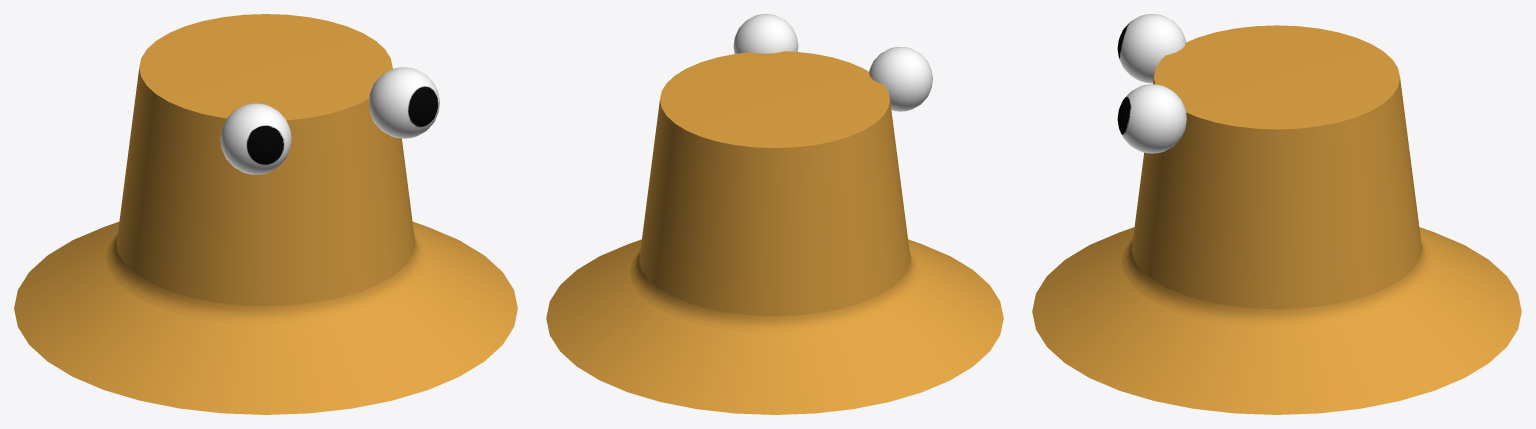
File: pyontahat.fbx
The picture shows the model from 3 angles, left to right: view 1: azimuth 30°, elevation 25°; view 2: azimuth 150°, elevation 25°; view 3: azimuth 270°, elevation 25°; orthographic projection. The views are drawn at different scales.
Visible parts, largest first — view 1: Zylinder, Kugel_1; view 2: Zylinder, Kugel_1; view 3: Zylinder, Kugel_1.
Boxes of the visible parts, <box> form: Zylinder: <box>14,14,517,414</box>; Kugel_1: <box>220,67,439,174</box>; Zylinder: <box>546,51,1003,414</box>; Kugel_1: <box>733,14,932,111</box>; Zylinder: <box>1032,25,1521,414</box>; Kugel_1: <box>1117,14,1186,153</box>.
Bounding box in the file's own units: 236 × 138 × 236.
Materials: 2 (1 with a texture image).
